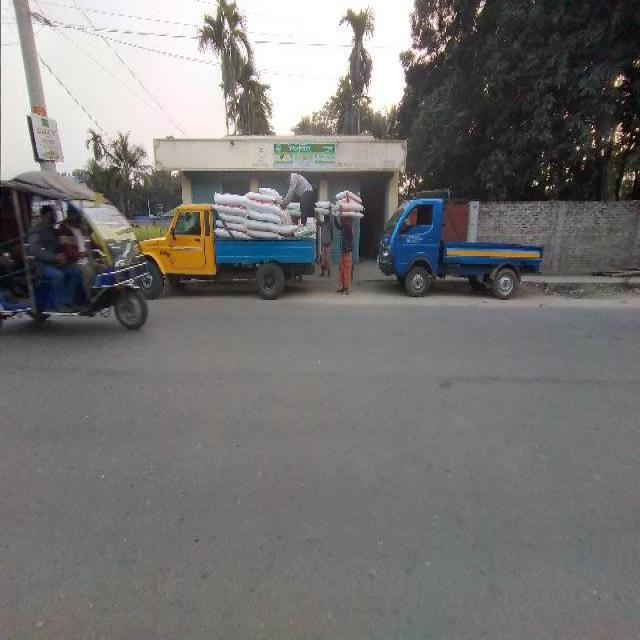11: (134, 184, 316, 304), (374, 197, 548, 302)
Car: (2, 175, 148, 337)
